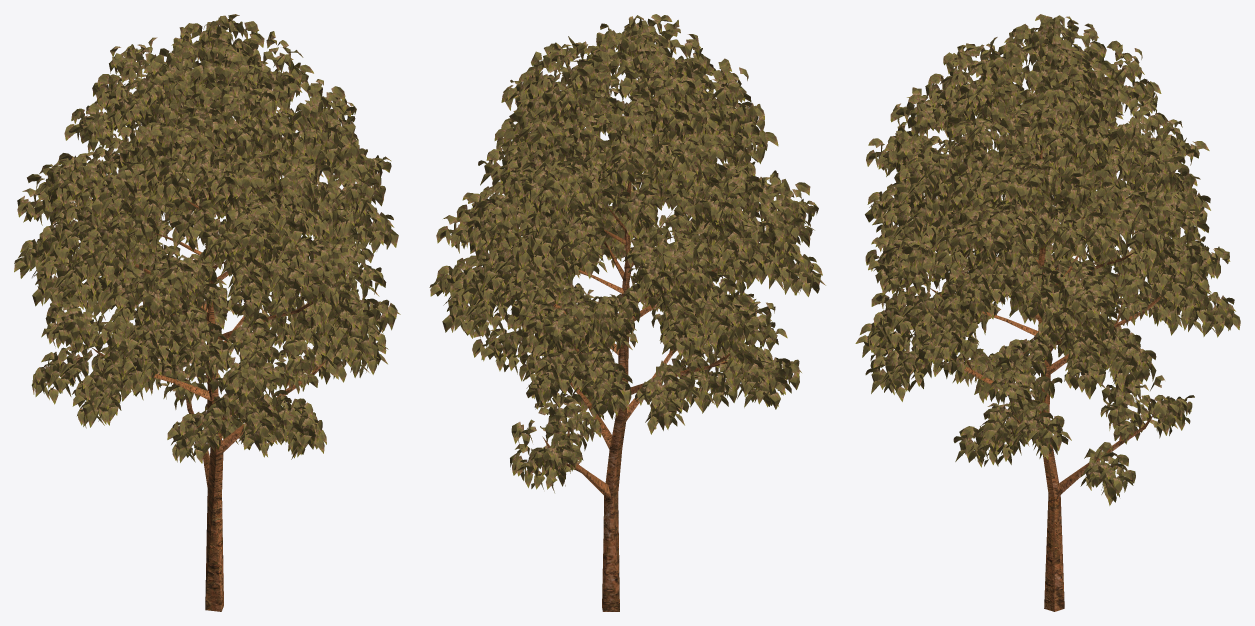
File: tree02.dae
3 views of the same model, side by side, from view 1: azimuth 30°, elevation 25°; view 2: azimuth 150°, elevation 25°; view 3: azimuth 270°, elevation 25° (orthographic). The views are drawn at different scales.
Parts seen in each view (by area): view 1: Tree.Birch; view 2: Tree.Birch; view 3: Tree.Birch.
Part boxes in pixels (left/top/right/bottom): Tree.Birch: left=14, top=14, right=400, bottom=611; Tree.Birch: left=429, top=14, right=825, bottom=611; Tree.Birch: left=855, top=14, right=1240, bottom=611.
Bounding box in the file's own units: 2.39 × 2.37 × 3.92.
Materials: 2 (2 with a texture image).
